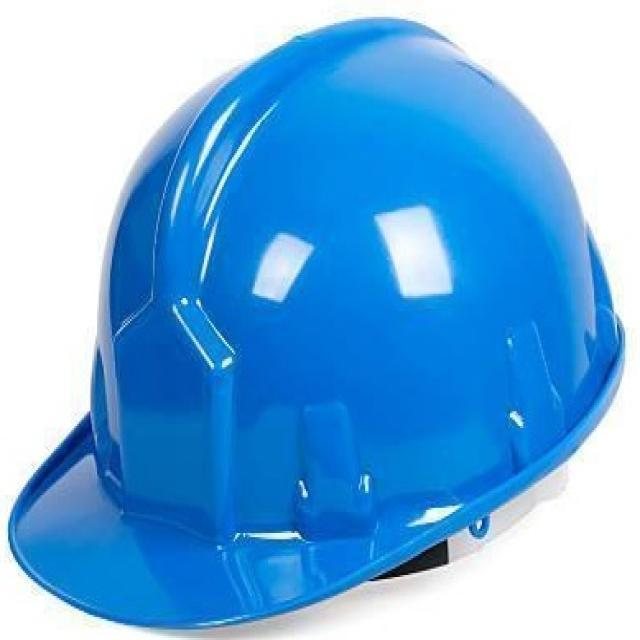blue helmet: (9, 15, 630, 632)
